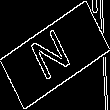N_SE: (30, 23, 80, 87)
